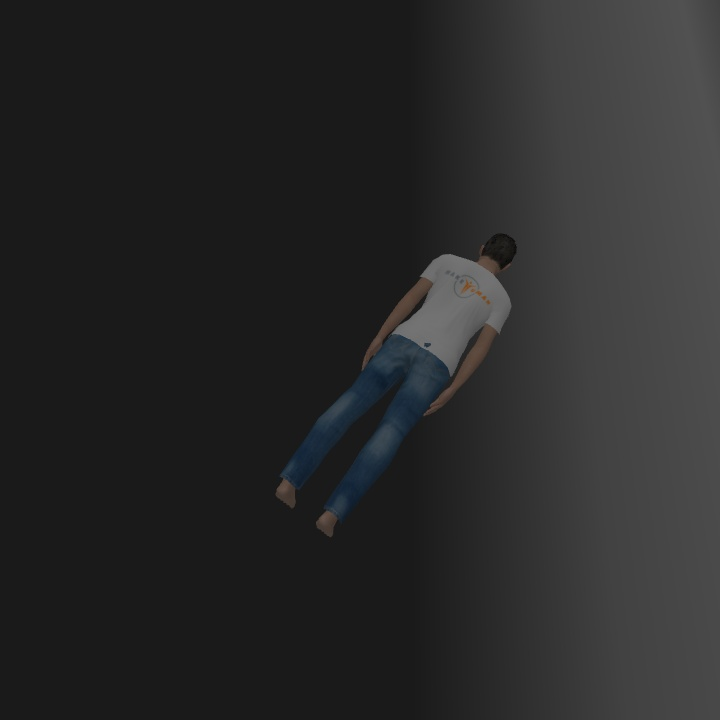victim: (276, 231, 518, 536)
